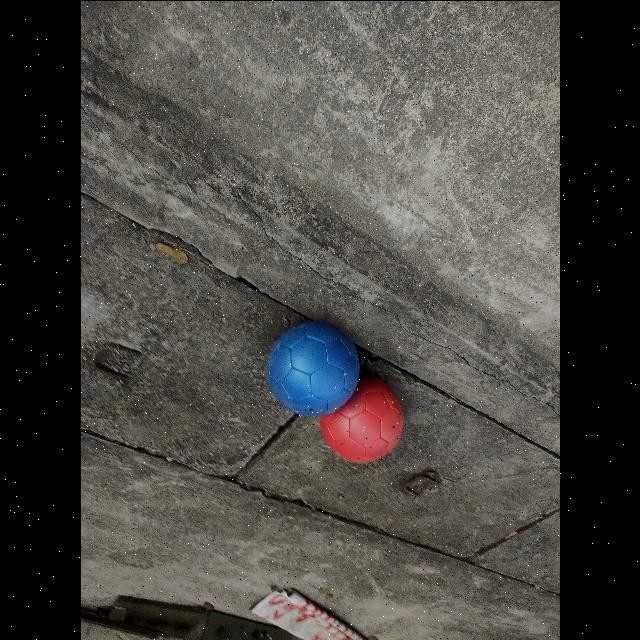B: (266, 321, 360, 415)
R: (319, 375, 403, 461)
